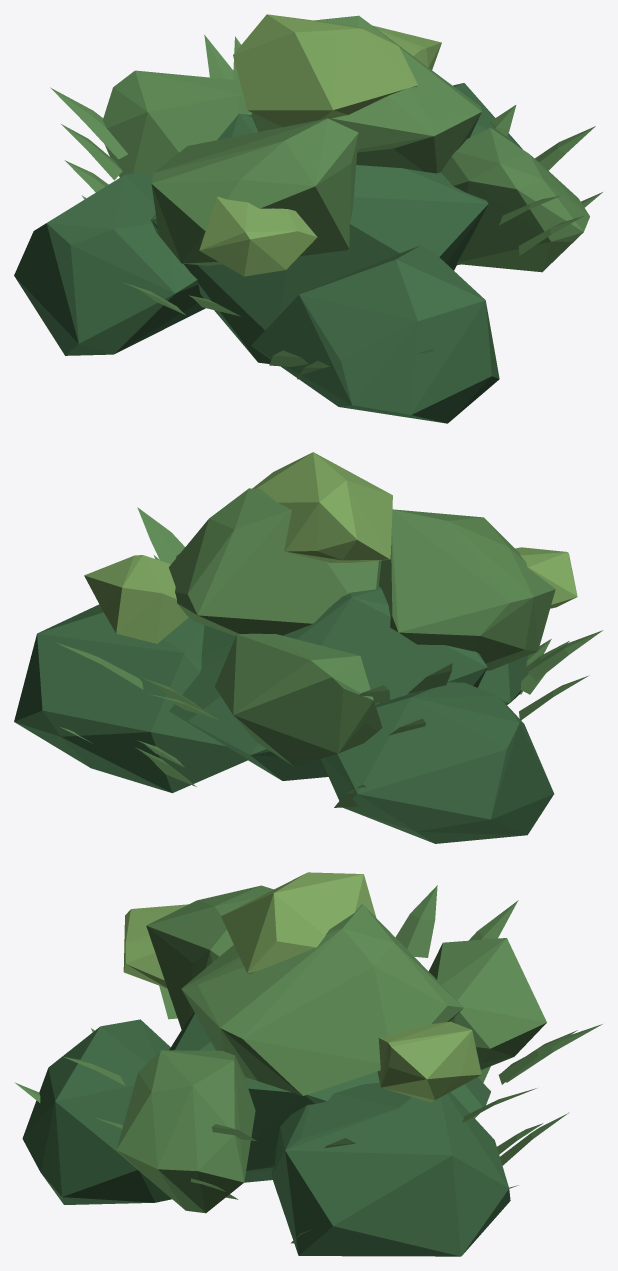
File: bush.glb
The picture shows the model from 3 angles, top to bottom: view 1: azimuth 30°, elevation 25°; view 2: azimuth 150°, elevation 25°; view 3: azimuth 270°, elevation 25°; orthographic projection. The views are drawn at different scales.
Parts seen in each view (by area): view 1: Body; view 2: Body; view 3: Body.
Boxes of the visible parts, x1,y1,x2,y2 form: Body: (14,14,602,423); Body: (14,452,603,843); Body: (14,872,602,1256).
Bounding box in the file's own units: 1.1 × 0.6945 × 1.16.
